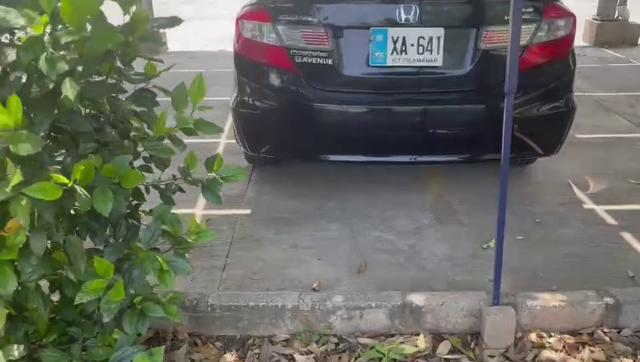plate: (369, 27, 446, 65)
